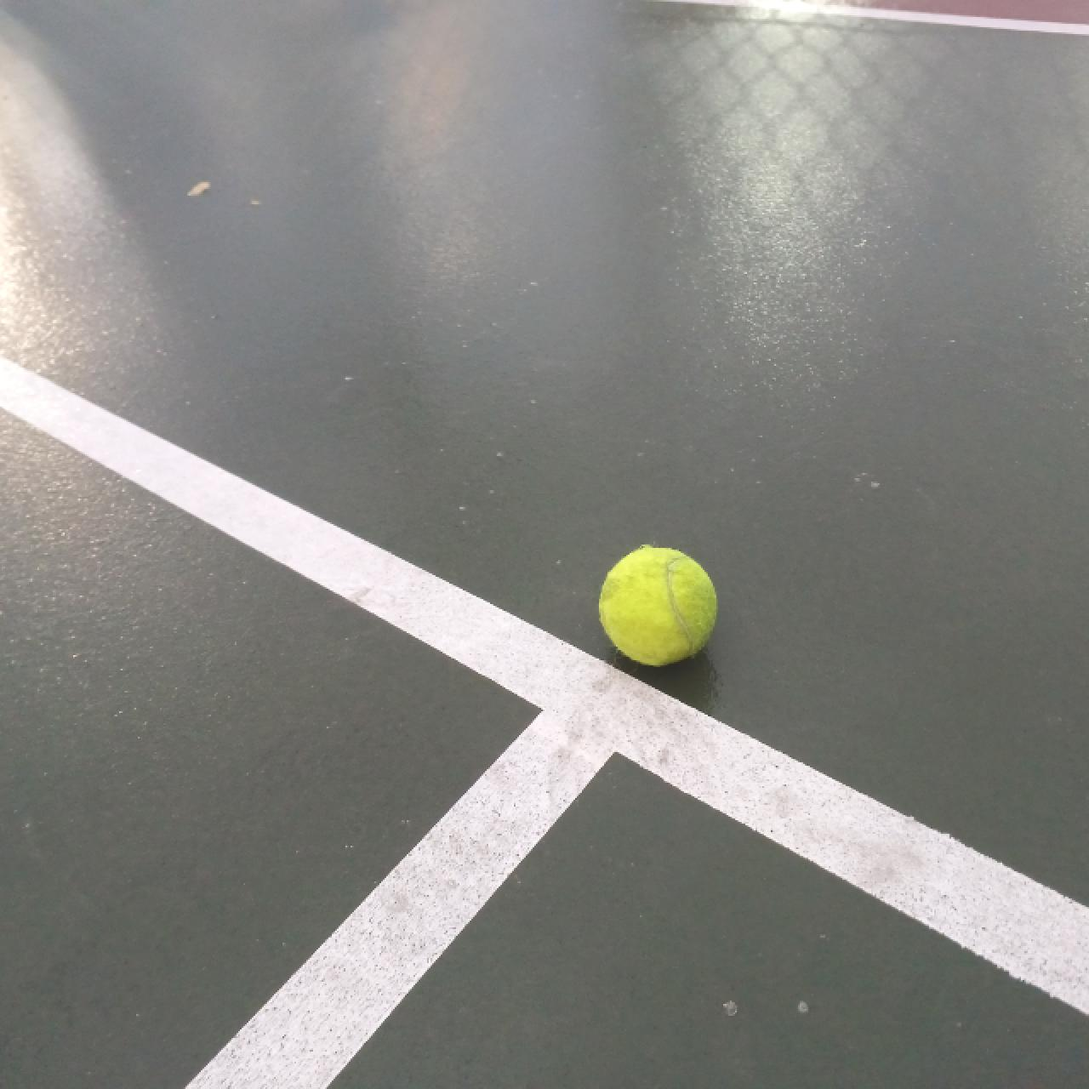tennis-ball: (599, 543, 719, 670)
